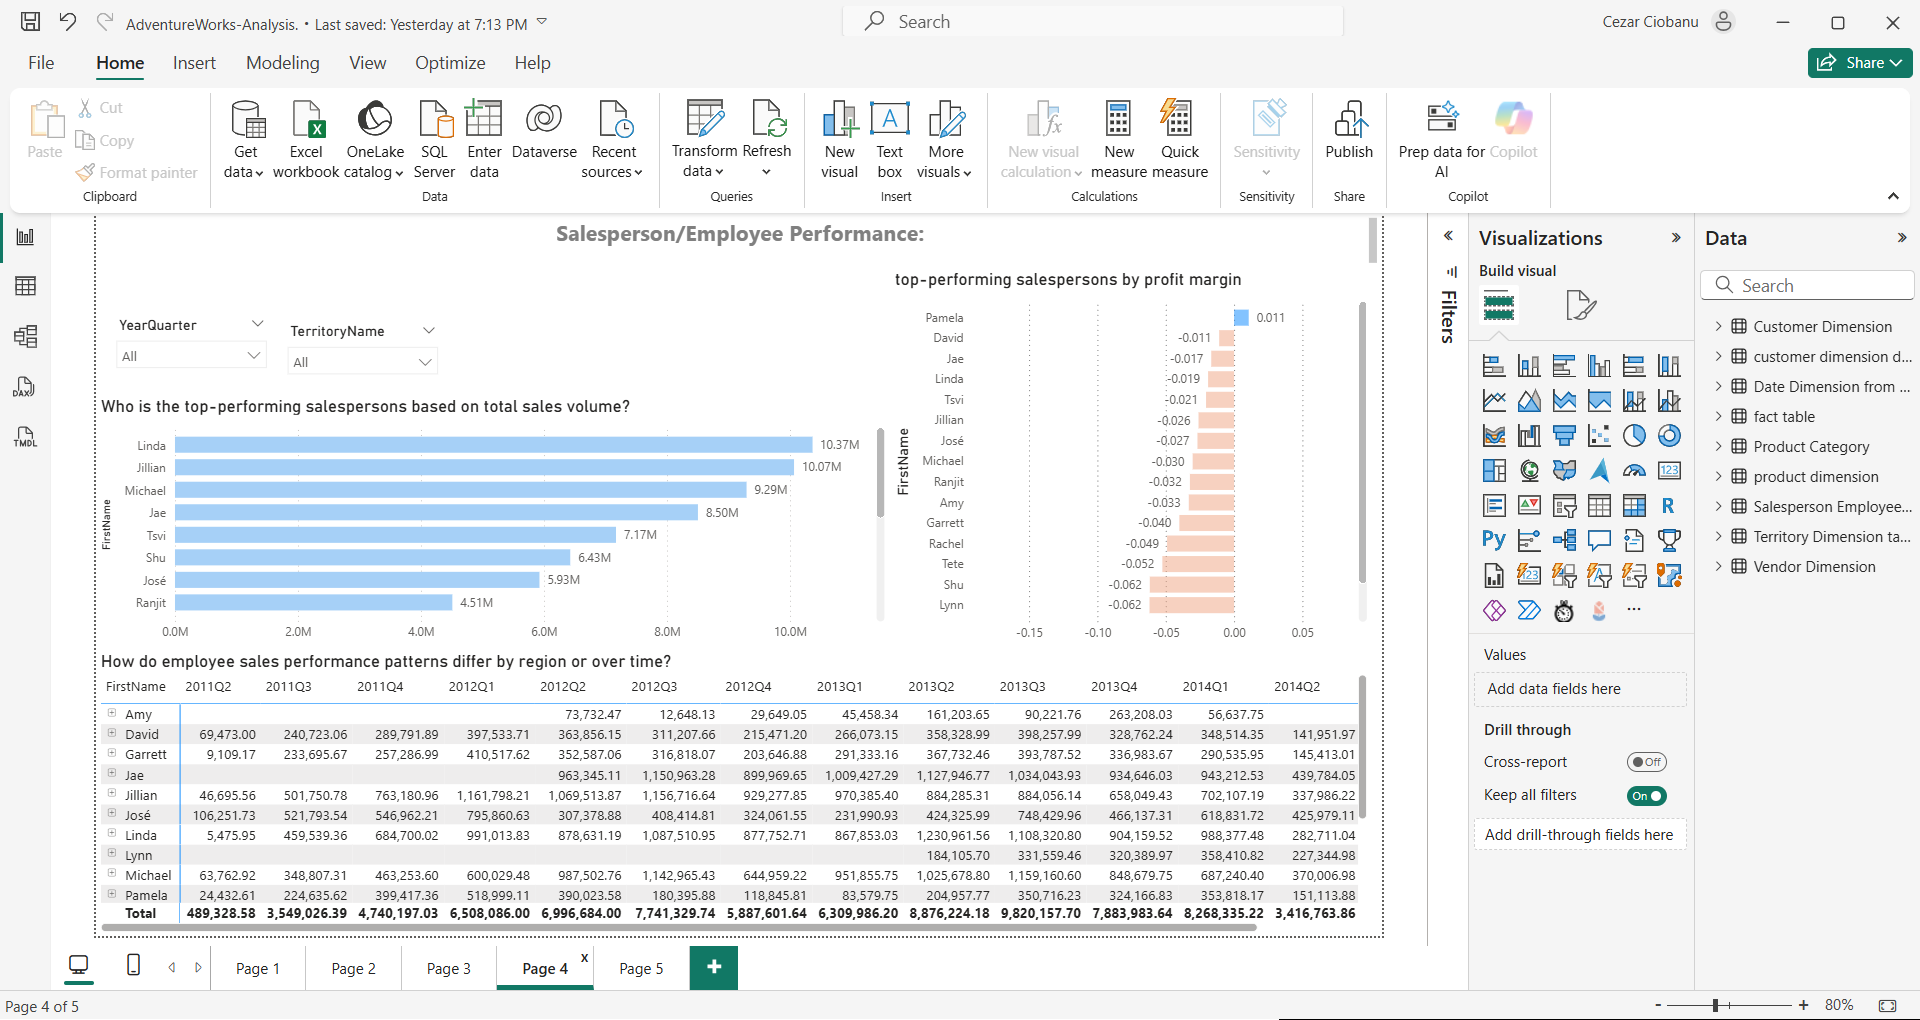

Layout of this report page (visuals, bound fields, positions):
{"tool":"powerbi","page":{"name":"Page 4","canvas":[1280,720],"ordinal":3},"visuals":[{"type":"textbox","box":[10,0,1270,55.7],"z":0},{"type":"barChart","title":"Who is the top-performing salespersons based on total sales volume?","fields":{"Category":["Salesperson Employee Dimension.FirstName","Salesperson Employee Dimension.LastName"],"Y":["fact table.total revenue"]},"box":[0,182,790,254],"z":1000},{"type":"slicer","fields":{"Values":["Territory Dimension table.TerritoryName"]},"box":[180,104,170,56],"z":2000},{"type":"slicer","fields":{"Values":["Date Dimension from orders.YearQuarter"]},"box":[10,98,170,62],"z":3000},{"type":"barChart","title":"top-performing salespersons by profit margin","fields":{"Category":["Salesperson Employee Dimension.FirstName","Salesperson Employee Dimension.LastName"],"Y":["fact table.Profit Margin"]},"box":[790,56,480,380],"z":4000},{"type":"pivotTable","title":"How do employee sales performance patterns differ by region or over time?","fields":{"Rows":["Salesperson Employee Dimension.FirstName","Territory Dimension table.TerritoryName"],"Columns":["Date Dimension from orders.YearQuarter"],"Values":["fact table.total revenue"]},"box":[0,435,1270,285],"z":5000}]}

Visuals, with their boxes on the page's 1280x720 design canvas (x1, y1, x2, y2). These are canvas units, not pixel positions in the 1920x1020 screenshot, which may show the page scaled, cropped or inside an application window:
textbox: BBox(10, 0, 1280, 56)
"Who is the top-performing salespersons based on total sales volume?" barChart: BBox(0, 182, 790, 436)
slicer - Territory Dimension table.TerritoryName: BBox(180, 104, 350, 160)
slicer - Date Dimension from orders.YearQuarter: BBox(10, 98, 180, 160)
"top-performing salespersons by profit margin" barChart: BBox(790, 56, 1270, 436)
"How do employee sales performance patterns differ by region or over time?" pivotTable: BBox(0, 435, 1270, 720)
